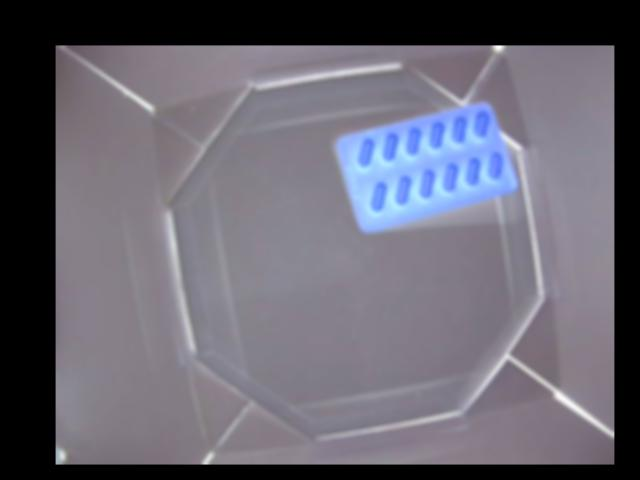Medicine: (335, 100, 517, 231)
